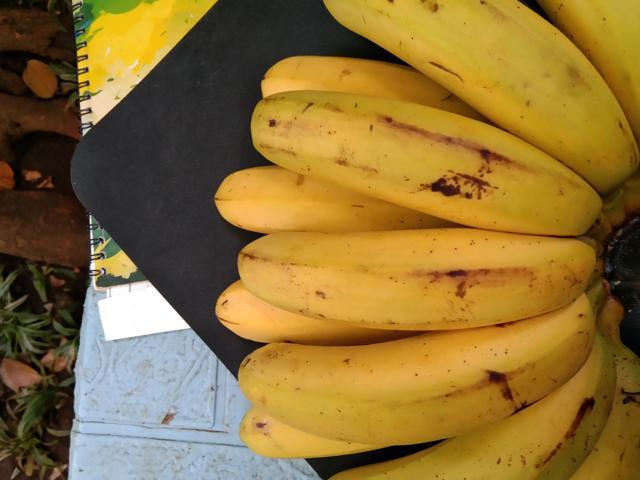ripe: (327, 0, 630, 179), (235, 293, 599, 441), (243, 84, 597, 231), (353, 337, 631, 479), (230, 223, 598, 325)
